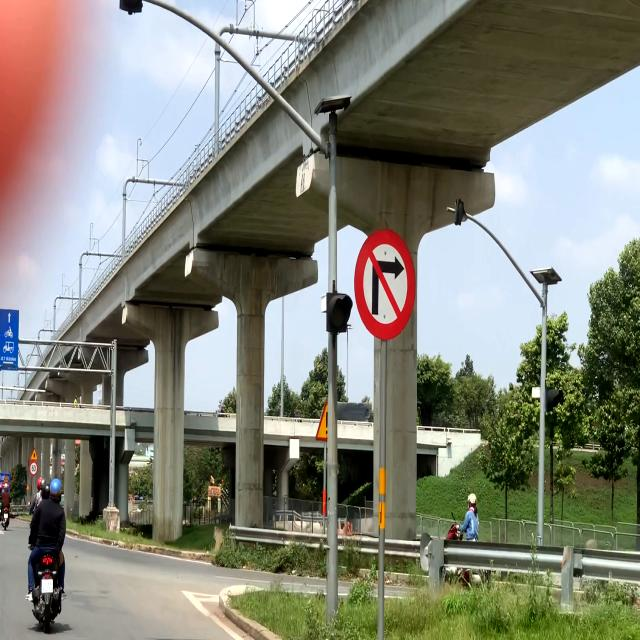P.123b: (355, 230, 416, 342)
